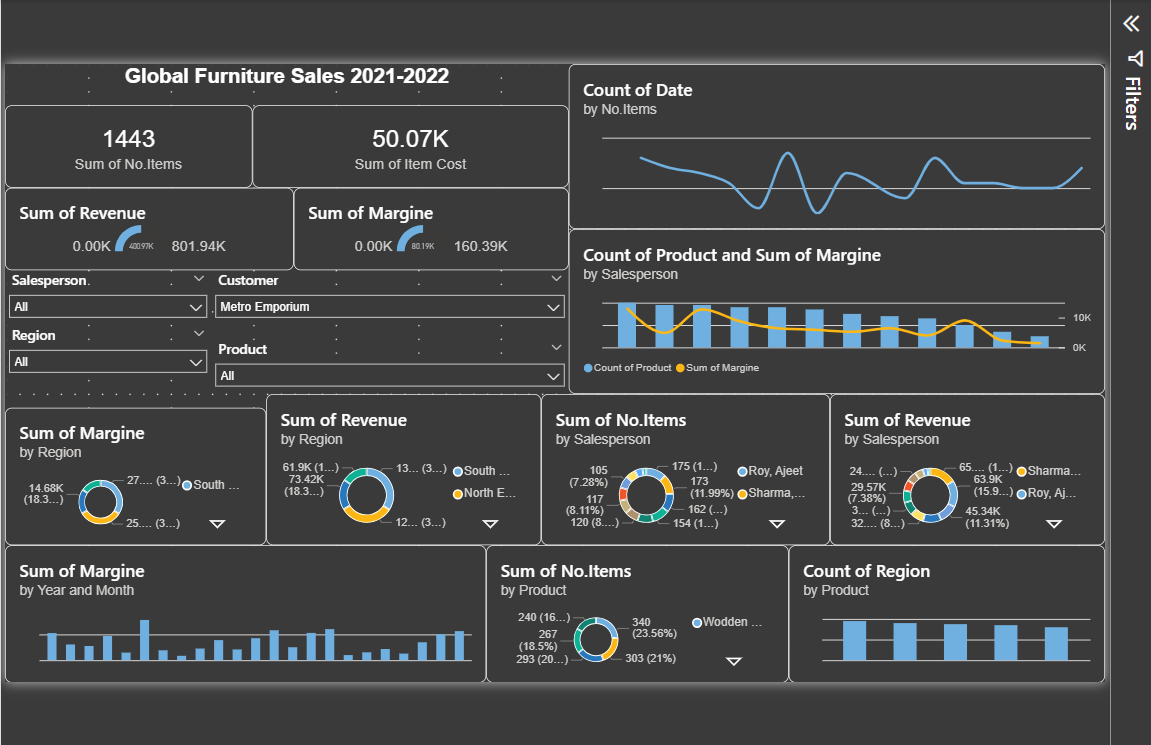

This screenshot's page, from the dashboard's own definition file:
{"tool":"powerbi","page":{"name":"Page 1","canvas":[1280,720],"ordinal":0},"visuals":[{"type":"textbox","box":[0,0,656,48],"z":0},{"type":"columnChart","fields":{"Category":["Raw_Data.Date.Variation.Date Hierarchy.Year","Raw_Data.Date.Variation.Date Hierarchy.Month"],"Y":["Sum(Raw_Data.Margine)"]},"box":[0,560,560,160],"z":1000},{"type":"donutChart","fields":{"Category":["Raw_Data.Product"],"Y":["Sum(Raw_Data.No.Items)"]},"box":[560,560,352,160],"z":2000},{"type":"columnChart","fields":{"Category":["Raw_Data.Product"],"Y":["CountNonNull(Raw_Data.Region)"]},"box":[912,560,368,160],"z":3000},{"type":"donutChart","fields":{"Category":["Raw_Data.Salesperson"],"Y":["Sum(Raw_Data.Revenue)"]},"box":[960,384,320,176],"z":4000},{"type":"donutChart","fields":{"Category":["Raw_Data.Salesperson"],"Y":["Sum(Raw_Data.No.Items)"]},"box":[624,384,336,176],"z":5000},{"type":"donutChart","fields":{"Category":["Raw_Data.Region"],"Y":["Sum(Raw_Data.Revenue)"]},"box":[304,384,320,176],"z":6000},{"type":"lineClusteredColumnComboChart","fields":{"Category":["Raw_Data.Salesperson"],"Y":["CountNonNull(Raw_Data.Product)"],"Y2":["Sum(Raw_Data.Margine)"]},"box":[656,192,624,192],"z":7000},{"type":"donutChart","fields":{"Category":["Raw_Data.Region"],"Y":["Sum(Raw_Data.Margine)"]},"box":[0,400,304,160],"z":8000},{"type":"slicer","fields":{"Values":["Raw_Data.Customer"]},"box":[240,240,416,80],"z":9000},{"type":"slicer","fields":{"Values":["Raw_Data.Region"]},"box":[0,304,240,96],"z":10000},{"type":"slicer","fields":{"Values":["Raw_Data.Salesperson"]},"box":[0,240,240,64],"z":11000},{"type":"slicer","fields":{"Values":["Raw_Data.Product"]},"box":[240,320,416,80],"z":12000},{"type":"gauge","fields":{"Y":["Sum(Raw_Data.Revenue)"]},"box":[0,144,336,96],"z":13000},{"type":"gauge","fields":{"Y":["Sum(Raw_Data.Margine)"]},"box":[336,144,320,96],"z":14000},{"type":"card","fields":{"Values":["Sum(Raw_Data.No.Items)"]},"box":[0,48,288,96],"z":15000},{"type":"lineChart","fields":{"Category":["Raw_Data.No.Items"],"Y":["CountNonNull(Raw_Data.Date)"]},"box":[656,0,624,192],"z":16000},{"type":"card","fields":{"Values":["Sum(Raw_Data.Item Cost)"]},"box":[288,48,368,96],"z":17000}]}

Visuals, with their boxes in screenshot pixels (x1, y1, x2, y2):
textbox: [3,63,564,104]
columnChart - Raw_Data.Date.Variation.Date Hierarchy.Year x Raw_Data.Date.Variation.Date Hierarchy.Month: [3,542,482,679]
donutChart - Raw_Data.Product x Sum(Raw_Data.No.Items): [482,542,783,679]
columnChart - Raw_Data.Product x CountNonNull(Raw_Data.Region): [783,542,1098,679]
donutChart - Raw_Data.Salesperson x Sum(Raw_Data.Revenue): [824,391,1098,542]
donutChart - Raw_Data.Salesperson x Sum(Raw_Data.No.Items): [537,391,824,542]
donutChart - Raw_Data.Region x Sum(Raw_Data.Revenue): [263,391,537,542]
lineClusteredColumnComboChart - Raw_Data.Salesperson x CountNonNull(Raw_Data.Product): [564,227,1098,391]
donutChart - Raw_Data.Region x Sum(Raw_Data.Margine): [3,405,263,542]
slicer - Raw_Data.Customer: [208,268,564,337]
slicer - Raw_Data.Region: [3,323,208,405]
slicer - Raw_Data.Salesperson: [3,268,208,323]
slicer - Raw_Data.Product: [208,337,564,405]
gauge - Sum(Raw_Data.Revenue): [3,186,290,268]
gauge - Sum(Raw_Data.Margine): [290,186,564,268]
card - Sum(Raw_Data.No.Items): [3,104,249,186]
lineChart - Raw_Data.No.Items x CountNonNull(Raw_Data.Date): [564,63,1098,227]
card - Sum(Raw_Data.Item Cost): [249,104,564,186]
